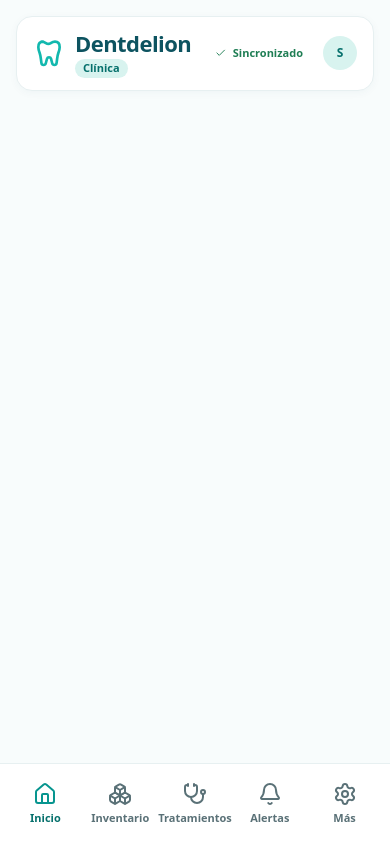
Test: navegación a Reportes › móvil: no está en la barra inferior y se abre desde "Más"
Expected: the button "Reportes" is not shown
Click the button "Más". click: (345, 804)
box: [307,764,382,843]
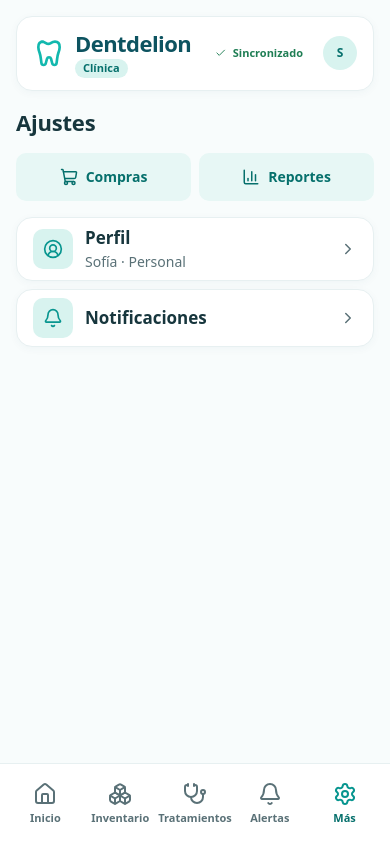
Click the button "Reportes". click: (286, 176)
box: [199,152,374,200]
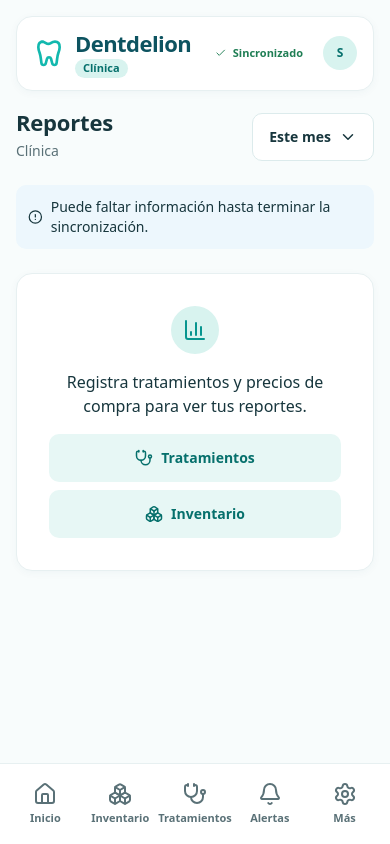
Expected: the heading "Reportes" is shown, [16,106,113,136]
